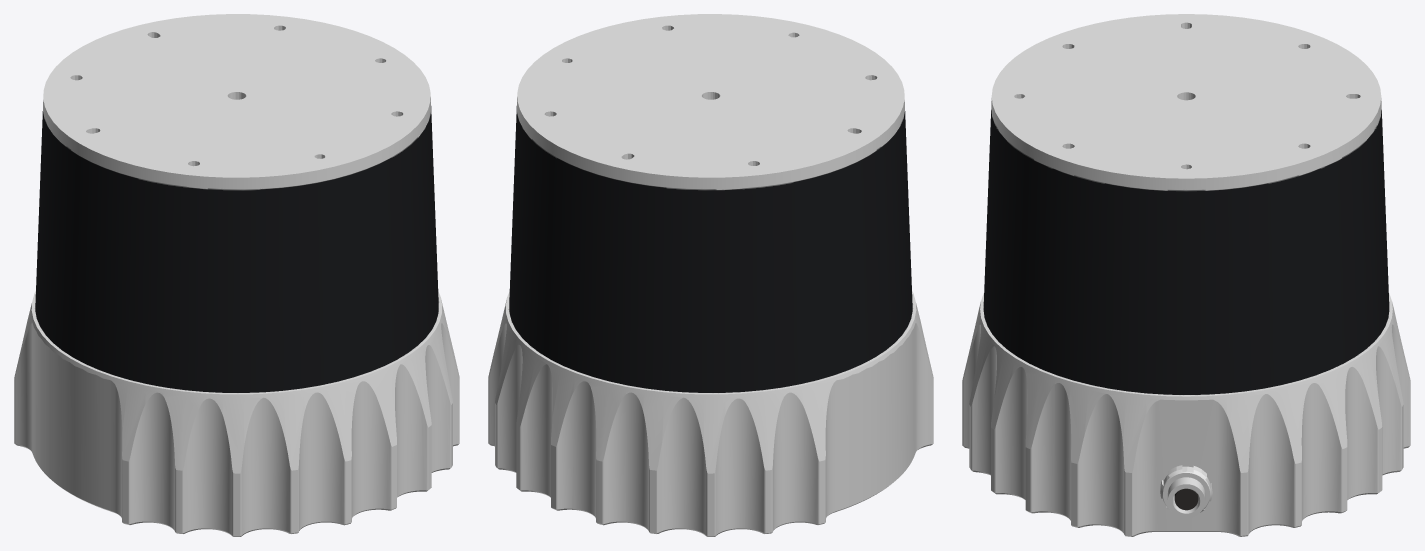
File: LidarOS2.fbx
3 renders of one model, left to right at view 1: azimuth 30°, elevation 25°; view 2: azimuth 150°, elevation 25°; view 3: azimuth 270°, elevation 25°, orthographic.
Parts seen in each view (by area): view 1: OS2; view 2: OS2; view 3: OS2.
Part boxes in pixels (box(x1,y1,x2,y2)): OS2: box(14, 14, 459, 536); OS2: box(488, 14, 933, 536); OS2: box(962, 14, 1410, 536).
Size of what is drawn, in the model's own units: 11.81 by 10.29 by 11.96.
1 material, 1 textured.
